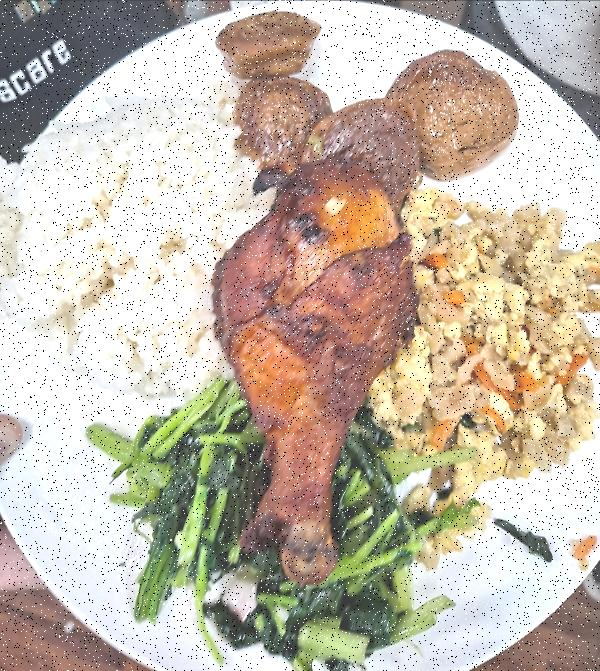big fried chicken leg: (10, 1, 599, 671)
big herbal chicken leg: (23, 89, 241, 394)
braised fish fillet: (137, 401, 439, 666), (402, 183, 598, 494), (214, 7, 520, 195)
braised pork: (202, 155, 412, 585)
